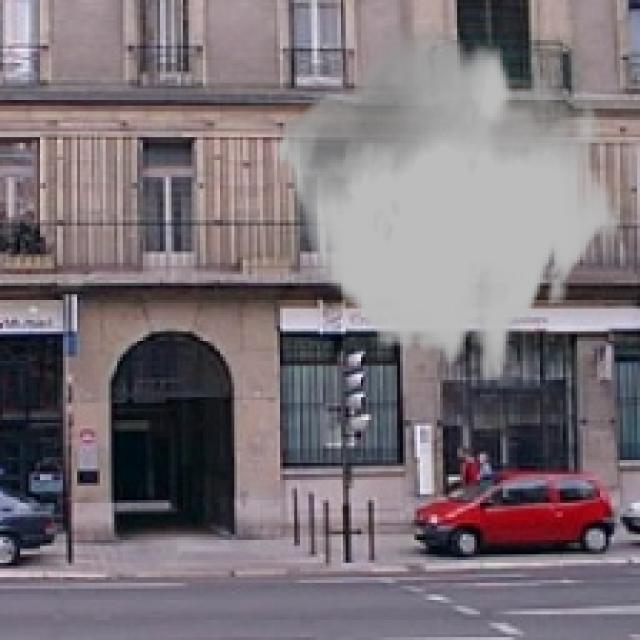smoke: (274, 23, 620, 380)
